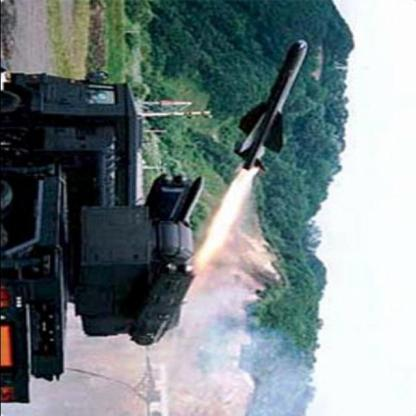MIL_TBM: (231, 39, 311, 172)
